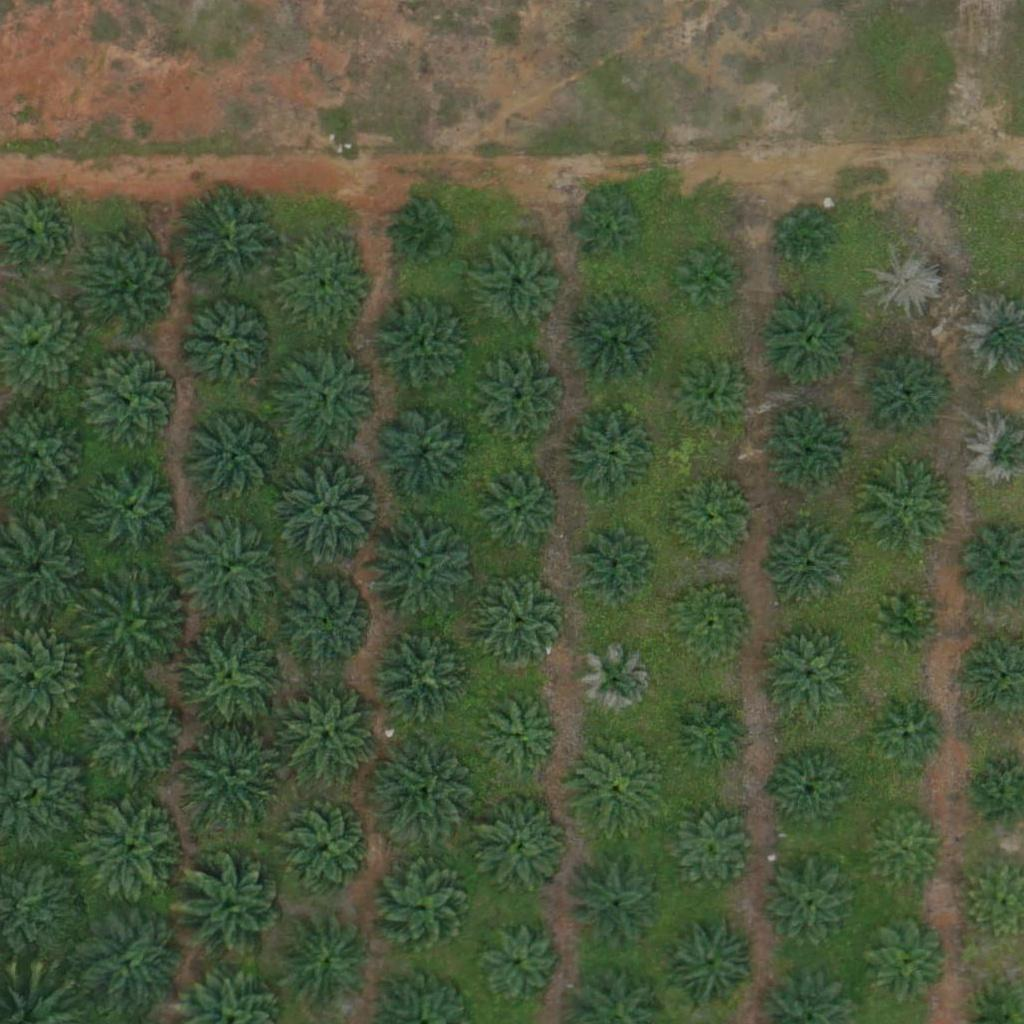Kelapa_Sawit: (80, 564, 193, 678), (172, 621, 285, 735), (180, 720, 293, 834), (367, 511, 480, 624), (174, 852, 287, 965), (170, 514, 282, 628), (367, 736, 479, 850), (174, 185, 286, 298), (274, 455, 386, 568), (82, 240, 182, 341), (87, 683, 187, 784), (183, 299, 283, 400), (185, 405, 285, 506), (276, 237, 376, 338), (278, 343, 378, 444), (372, 295, 472, 396), (375, 403, 475, 504), (373, 627, 473, 728), (469, 233, 569, 334), (571, 736, 671, 837), (659, 801, 759, 902), (659, 911, 759, 1012), (565, 851, 665, 952), (276, 911, 376, 1012), (80, 798, 180, 899), (77, 910, 177, 1011), (82, 349, 182, 449), (85, 460, 185, 560), (277, 571, 377, 671), (279, 688, 379, 788), (761, 291, 861, 391), (860, 345, 960, 445), (860, 459, 960, 559), (473, 795, 573, 895), (372, 857, 472, 957), (276, 798, 376, 898), (477, 357, 565, 446), (667, 581, 755, 670), (769, 748, 857, 837), (668, 688, 756, 776), (571, 300, 659, 388), (568, 413, 656, 501), (670, 479, 758, 567), (764, 862, 852, 950), (476, 924, 564, 1012), (860, 915, 947, 1003), (474, 471, 561, 559), (477, 581, 564, 669), (766, 408, 853, 496), (765, 524, 852, 612), (766, 634, 853, 722), (483, 698, 558, 774), (867, 244, 942, 320), (673, 363, 748, 438), (873, 699, 948, 774), (577, 531, 652, 606), (579, 645, 654, 720), (865, 810, 940, 885), (578, 196, 641, 259), (675, 243, 738, 306), (395, 198, 458, 261), (875, 594, 938, 657), (771, 204, 833, 266)
